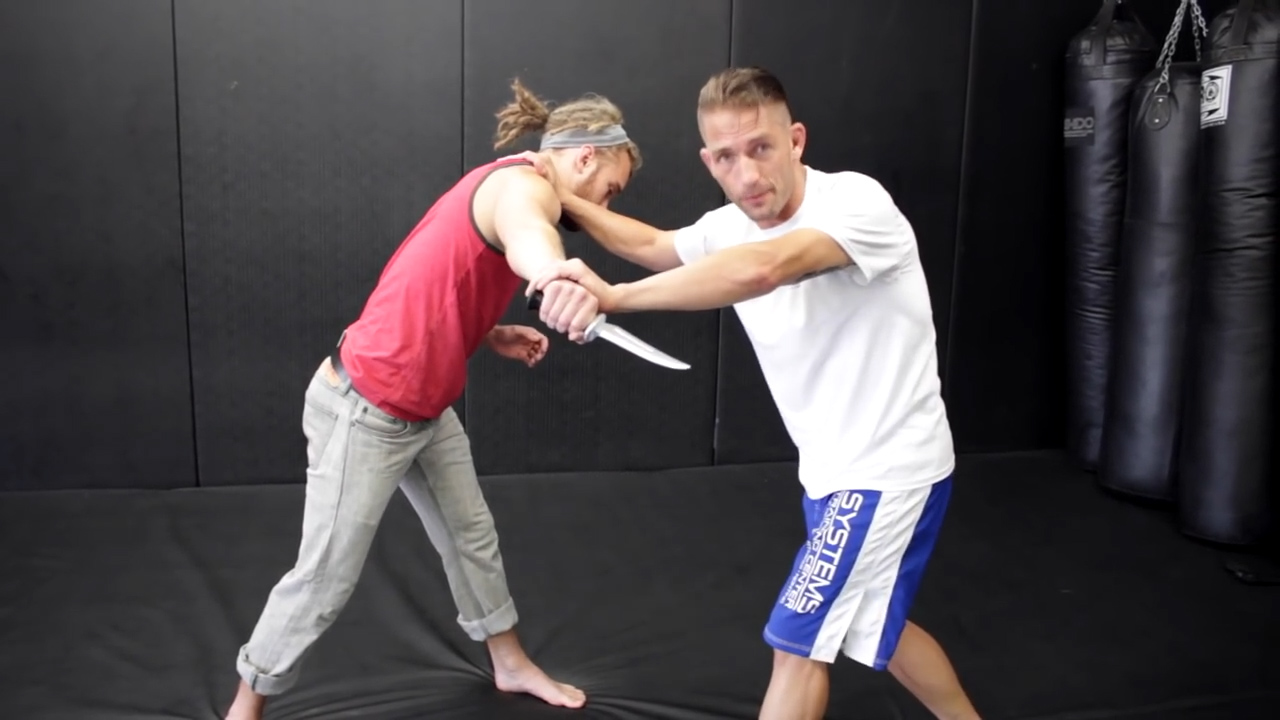knife: (514, 281, 704, 381)
